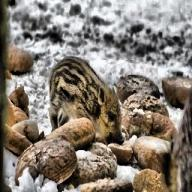boar: (48, 56, 124, 144)
